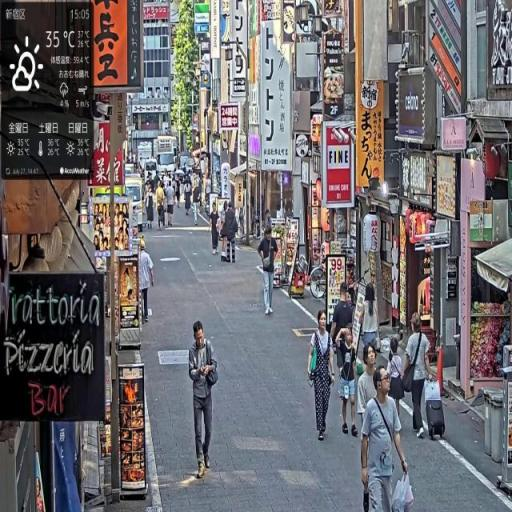person: (360, 366, 415, 512), (189, 320, 220, 481), (308, 308, 338, 444), (403, 313, 434, 440), (330, 285, 356, 391), (339, 326, 361, 439), (259, 222, 280, 317), (138, 239, 156, 326), (209, 204, 221, 257), (145, 180, 156, 232), (156, 181, 167, 231), (166, 180, 177, 229)
